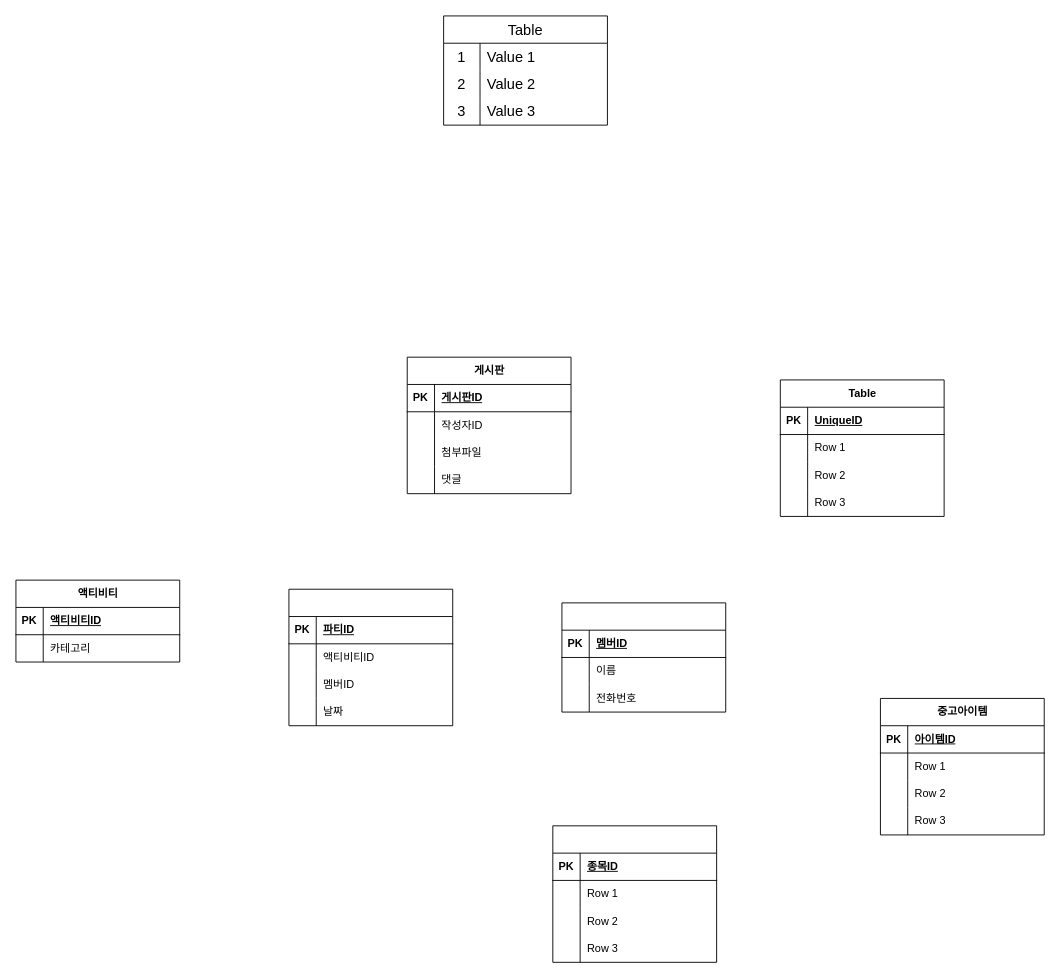
Some shapes in this 1060 by 978 pixel diagram are drawn without their labels. Each missing label, with the box of its shape:
멤버: (561, 602, 726, 712)
액티비티 파티: (288, 588, 453, 726)
종목: (552, 825, 717, 962)
